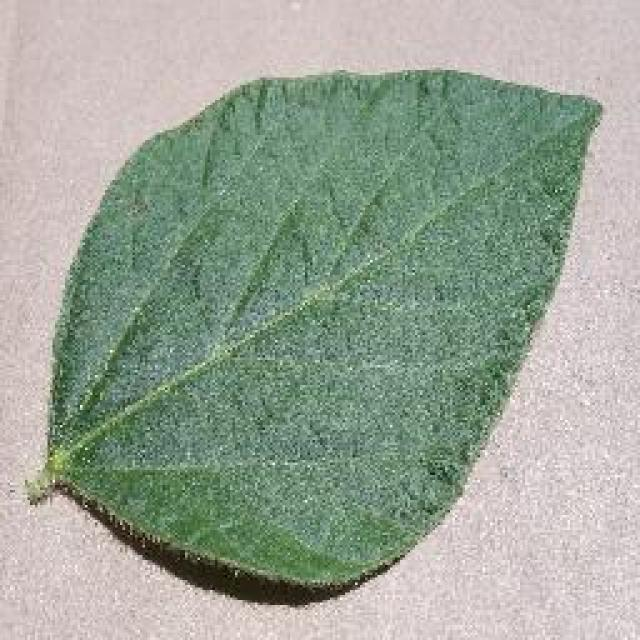Soy_healthy: (101, 79, 578, 559)
